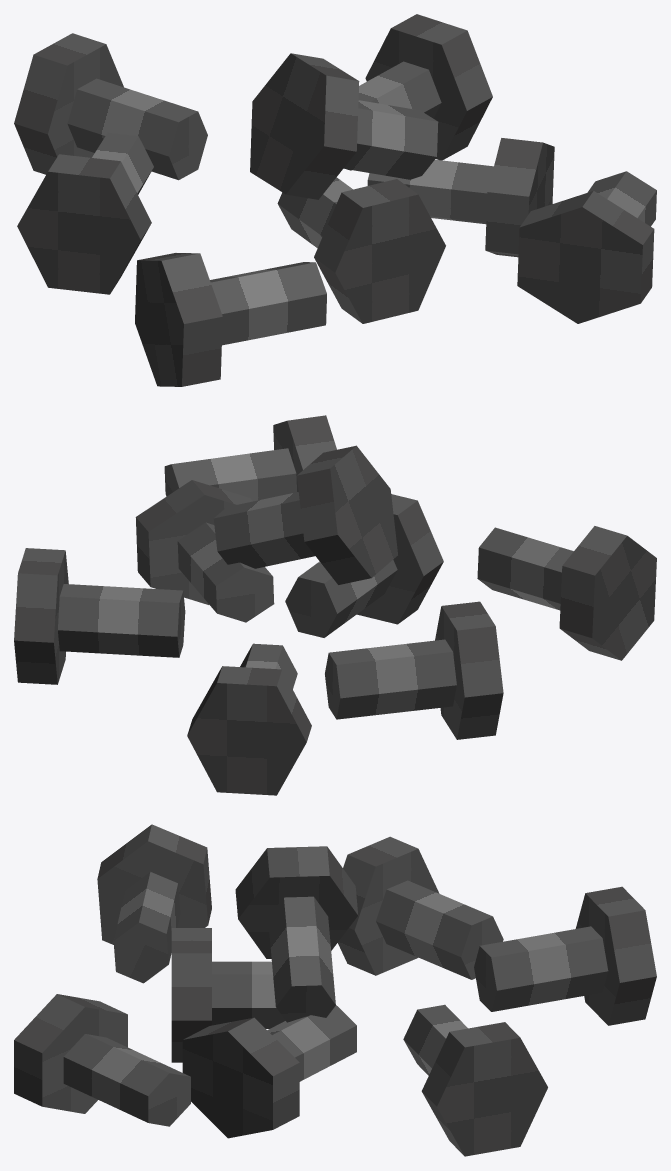
Rendered from boltiki.fbx.
3 renders of one model, top to bottom at view 1: azimuth 30°, elevation 25°; view 2: azimuth 150°, elevation 25°; view 3: azimuth 270°, elevation 25°, orthographic. The views are drawn at different scales.
Parts seen in each view (by area): view 1: cylinder_15, cylinder, cylinder_5, cylinder_3, cylinder_11, cylinder_7, cylinder_8, cylinder_9, cylinder_10, cylinder_13, cylinder_2, cylinder_12 (+4 smaller); view 2: cylinder_9, cylinder_3, cylinder_11, cylinder_4, cylinder_6, cylinder_5, cylinder_7, cylinder_13, cylinder_2, cylinder_12, cylinder_10, cylinder (+4 smaller); view 3: cylinder_7, cylinder_13, cylinder_8, cylinder_15, cylinder_3, cylinder_14, cylinder_4, cylinder_11, cylinder_9, cylinder_2, cylinder_5, cylinder_10 (+4 smaller).
Boxes of the visible parts, x1=… form: cylinder_15: x1=517, y1=191, x2=654, y2=323; cylinder: x1=314, y1=179, x2=445, y2=323; cylinder_5: x1=17, y1=154, x2=151, y2=294; cylinder_3: x1=250, y1=53, x2=359, y2=199; cylinder_11: x1=135, y1=253, x2=222, y2=386; cylinder_7: x1=365, y1=14, x2=492, y2=160; cylinder_8: x1=67, y1=78, x2=207, y2=180; cylinder_9: x1=14, y1=33, x2=123, y2=174; cylinder_10: x1=210, y1=262, x2=326, y2=345; cylinder_13: x1=485, y1=138, x2=554, y2=257; cylinder_2: x1=343, y1=100, x2=438, y2=179; cylinder_12: x1=367, y1=159, x2=493, y2=224; cylinder_9: x1=187, y1=666, x2=311, y2=795; cylinder_3: x1=297, y1=445, x2=397, y2=584; cylinder_11: x1=559, y1=526, x2=656, y2=660; cylinder_4: x1=325, y1=639, x2=456, y2=719; cylinder_6: x1=58, y1=584, x2=185, y2=657; cylinder_5: x1=435, y1=601, x2=503, y2=739; cylinder_7: x1=14, y1=548, x2=68, y2=684; cylinder_13: x1=135, y1=480, x2=252, y2=604; cylinder_2: x1=213, y1=492, x2=314, y2=568; cylinder_12: x1=177, y1=522, x2=274, y2=622; cylinder_10: x1=477, y1=527, x2=573, y2=610; cylinder: x1=357, y1=494, x2=443, y2=624; cylinder_7: x1=421, y1=1022, x2=547, y2=1156; cylinder_13: x1=182, y1=1017, x2=299, y2=1138; cylinder_8: x1=474, y1=926, x2=608, y2=1011; cylinder_15: x1=14, y1=994, x2=127, y2=1113; cylinder_3: x1=235, y1=846, x2=358, y2=958; cylinder_14: x1=63, y1=1034, x2=190, y2=1126; cylinder_4: x1=376, y1=880, x2=503, y2=979; cylinder_11: x1=97, y1=824, x2=211, y2=944; cylinder_9: x1=575, y1=886, x2=656, y2=1025; cylinder_2: x1=268, y1=896, x2=335, y2=1022; cylinder_5: x1=338, y1=836, x2=439, y2=975; cylinder_10: x1=113, y1=872, x2=180, y2=983.
Bounding box in the file's own units: 84.48 × 34.78 × 100.
Materials: 1 (1 with a texture image).
